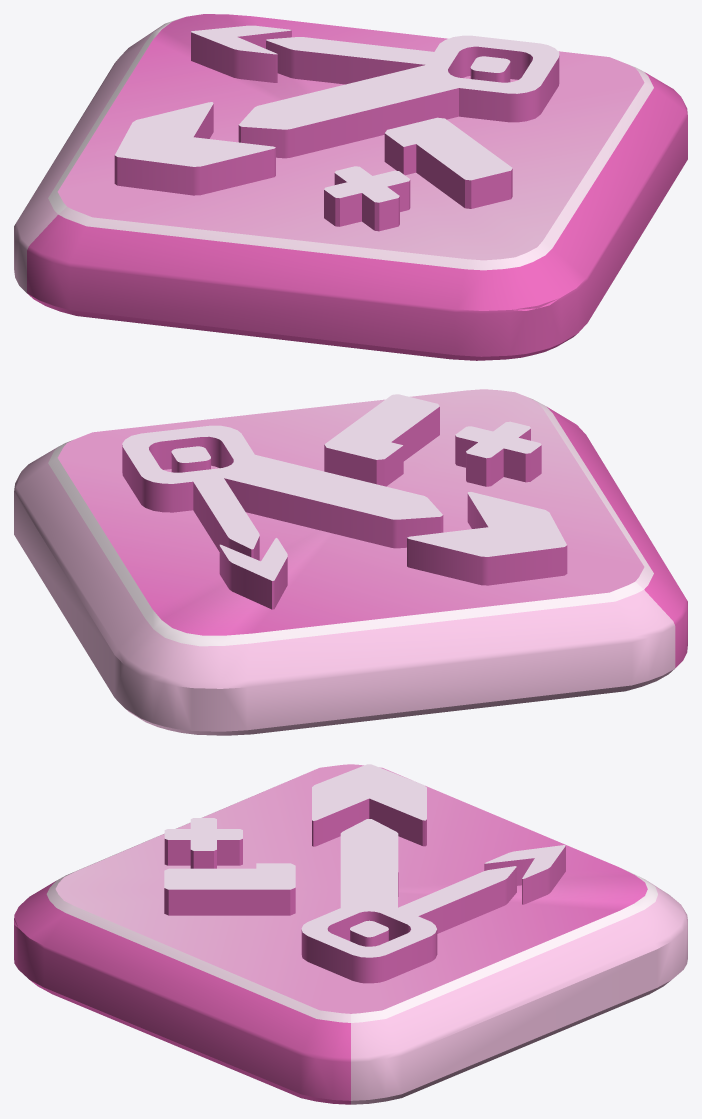
Rendered from msScattershotStone.obj.
3 renders of one model, top to bottom at view 1: azimuth 30°, elevation 25°; view 2: azimuth 150°, elevation 25°; view 3: azimuth 270°, elevation 25°, orthographic. The views are drawn at different scales.
Visible parts, largest first — view 1: msScattershotStone; view 2: msScattershotStone; view 3: msScattershotStone.
Part boxes in pixels (box(x1,y1,x2,y2)): msScattershotStone: box(14, 14, 687, 360); msScattershotStone: box(14, 389, 687, 735); msScattershotStone: box(14, 764, 687, 1104).
Bounding box in the file's own units: 8.98 × 1.5 × 8.98.
